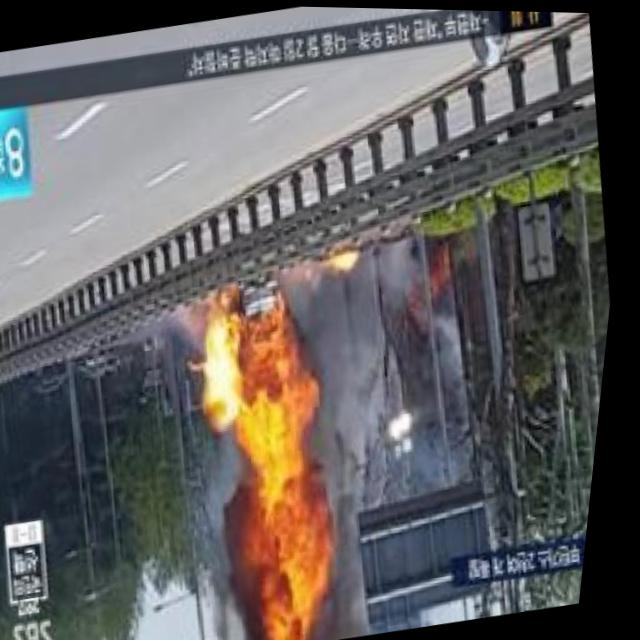Fire: (200, 297, 306, 426), (245, 415, 313, 491), (317, 244, 364, 270)
